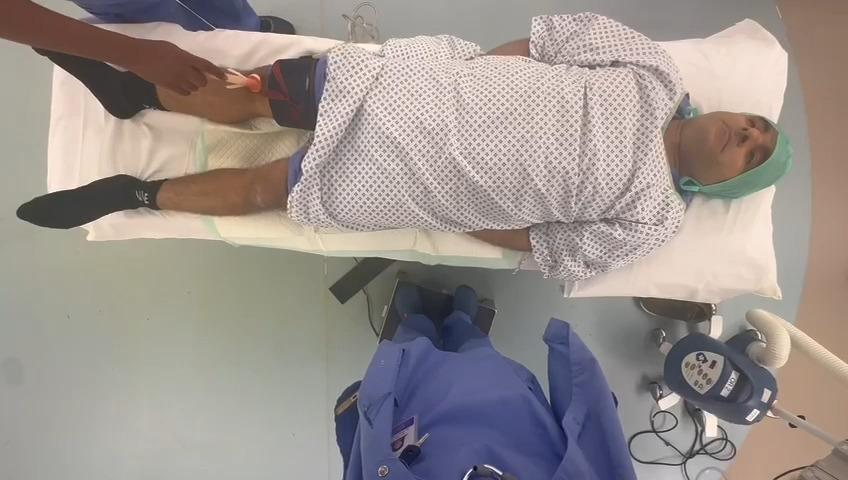patient: (17, 13, 792, 279)
prepstick: (227, 68, 262, 93)
tourniquet: (267, 56, 320, 130)
